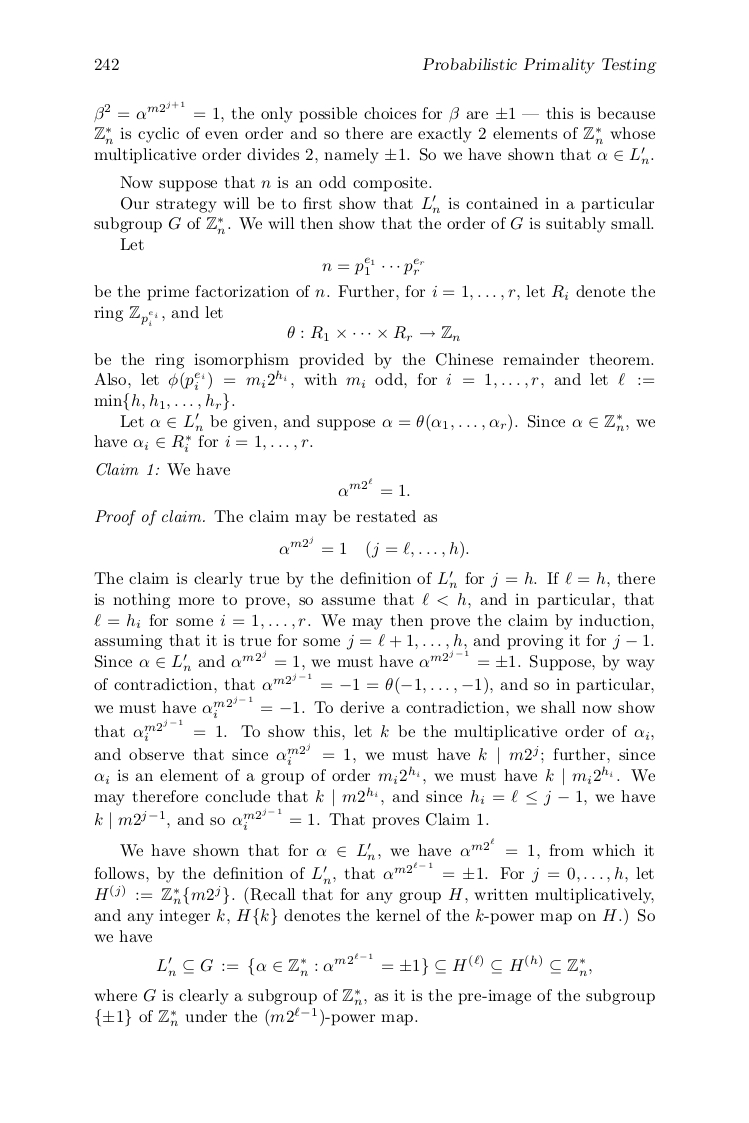formula: (156, 952, 591, 976), (279, 535, 468, 559), (287, 326, 459, 340), (322, 256, 424, 275), (338, 478, 409, 496)
